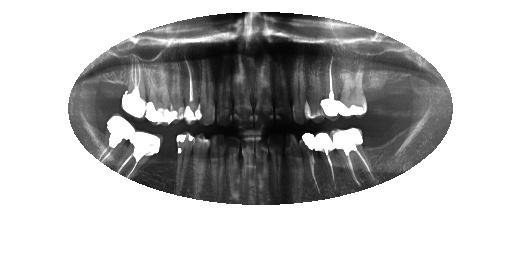caries: (266, 57, 294, 124), (267, 134, 286, 201), (225, 137, 241, 205), (286, 134, 300, 193)
fractura: (147, 65, 173, 125), (338, 65, 367, 117), (176, 134, 196, 196)
otra: (333, 128, 376, 186), (118, 130, 161, 178), (98, 114, 135, 162), (121, 53, 147, 120), (317, 54, 340, 118), (298, 132, 322, 193), (317, 129, 337, 184), (186, 53, 201, 125)
